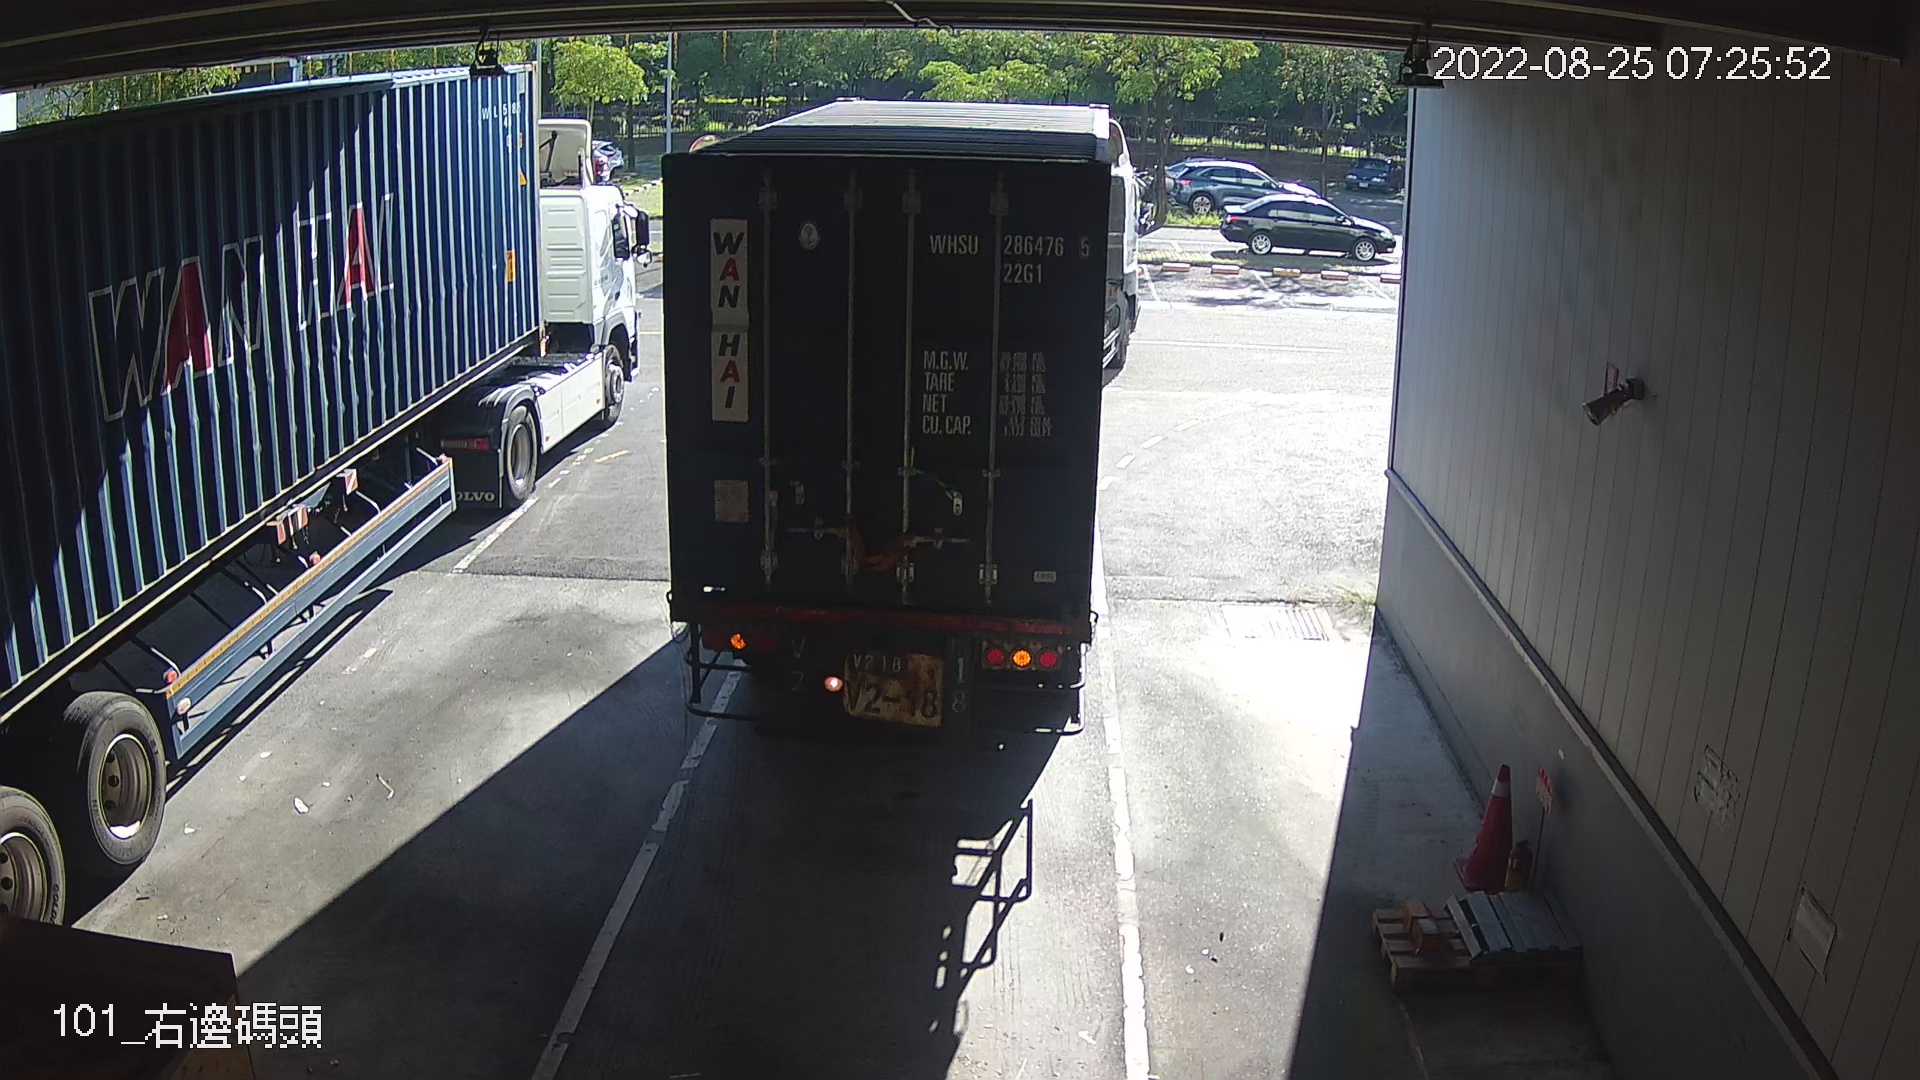container: (920, 220, 1098, 294)
